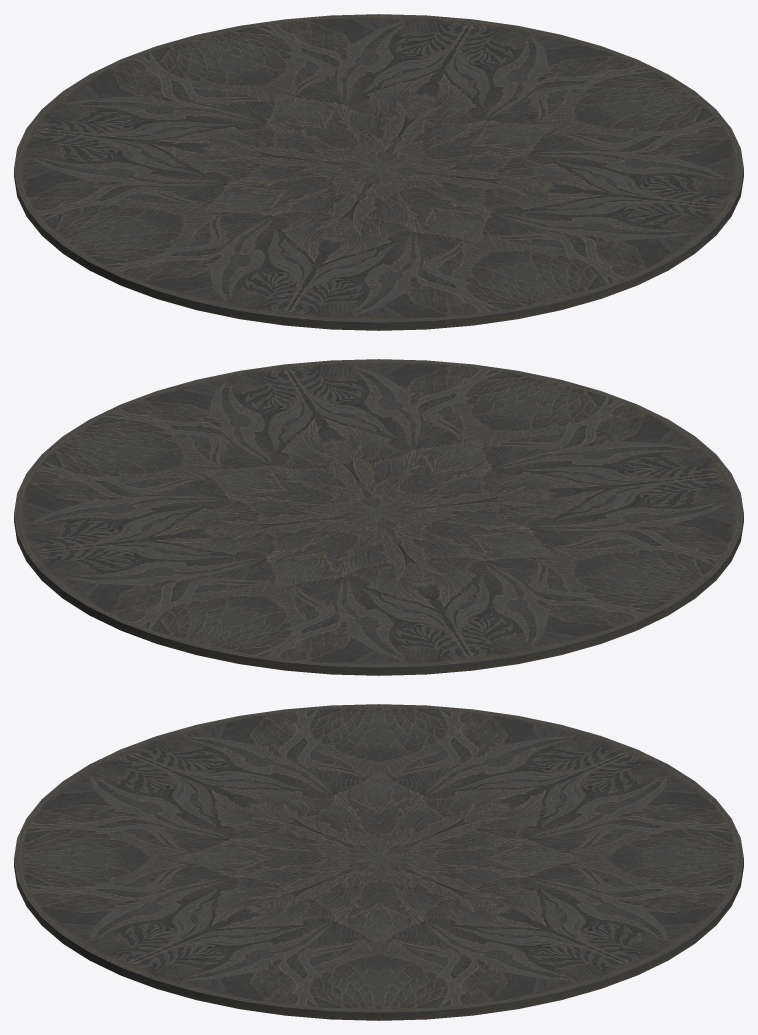
File: bg_rad_kamen_floor05b_sm.obj
The picture shows the model from 3 angles, top to bottom: view 1: azimuth 30°, elevation 25°; view 2: azimuth 150°, elevation 25°; view 3: azimuth 270°, elevation 25°; orthographic projection.
Parts seen in each view (by area): view 1: bg_rad_kamen_floor05b_sm_0, bg_rad_kamen_floor05b_sm_1; view 2: bg_rad_kamen_floor05b_sm_0, bg_rad_kamen_floor05b_sm_1; view 3: bg_rad_kamen_floor05b_sm_0, bg_rad_kamen_floor05b_sm_1.
Boxes of the visible parts, x1,y1,x2,y2 form: bg_rad_kamen_floor05b_sm_0: [14, 14, 743, 330]; bg_rad_kamen_floor05b_sm_1: [152, 72, 605, 263]; bg_rad_kamen_floor05b_sm_0: [14, 359, 743, 675]; bg_rad_kamen_floor05b_sm_1: [152, 417, 605, 608]; bg_rad_kamen_floor05b_sm_0: [14, 704, 743, 1020]; bg_rad_kamen_floor05b_sm_1: [177, 773, 580, 943].
Bounding box in the file's own units: 12.04 × 0.1541 × 12.04.
Materials: 2 (2 with a texture image).
